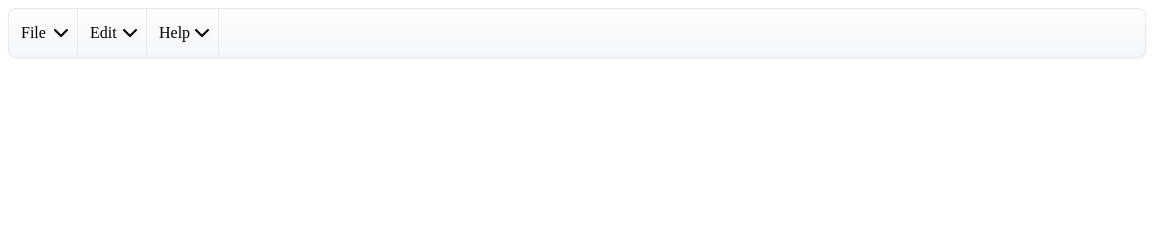
Scenario: Menu Bar › Interaction › should switch menus on click
The image size is (1152, 233).
Click the menu item "File".
click(44, 33)  # box [9,9,78,57]
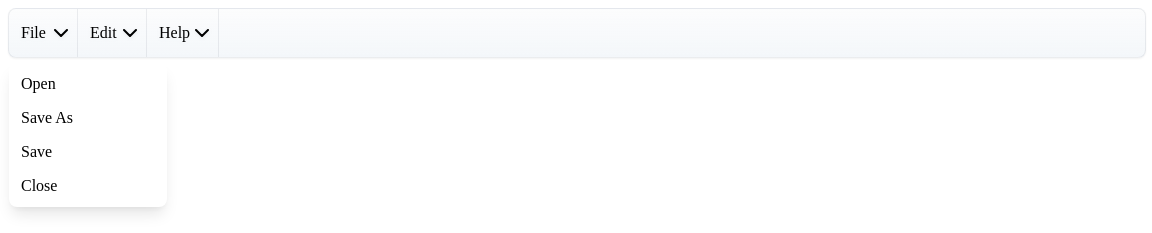
Now the text "Open" is shown, box [21,75,56,92]
Click the menu item "Edit".
click(112, 33)  # box [78,9,147,57]
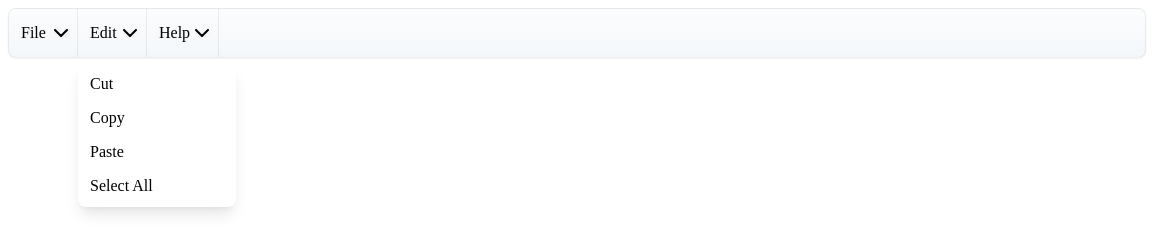
Now the text "Cut" is shown, box [90,75,113,92]
Now the menu item "Open" is gone
